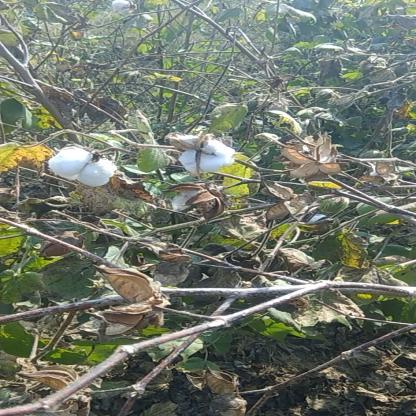cotton_ready: (160, 124, 264, 188), (44, 140, 118, 194)
